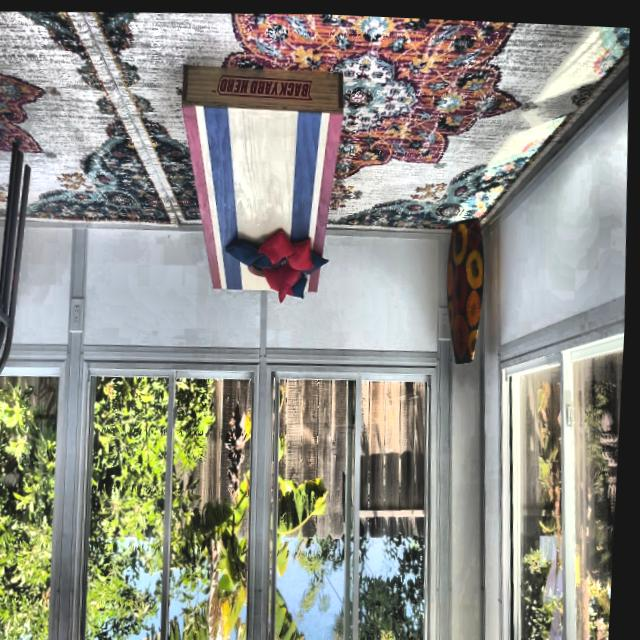blue-bean-bag: (246, 235, 288, 263), (225, 236, 267, 264), (302, 243, 333, 273), (291, 271, 311, 297)
board: (197, 102, 336, 291)
hole: (249, 253, 283, 277)
red-bean-bag: (259, 225, 301, 263), (283, 234, 314, 270), (263, 263, 297, 295), (280, 260, 305, 302)
